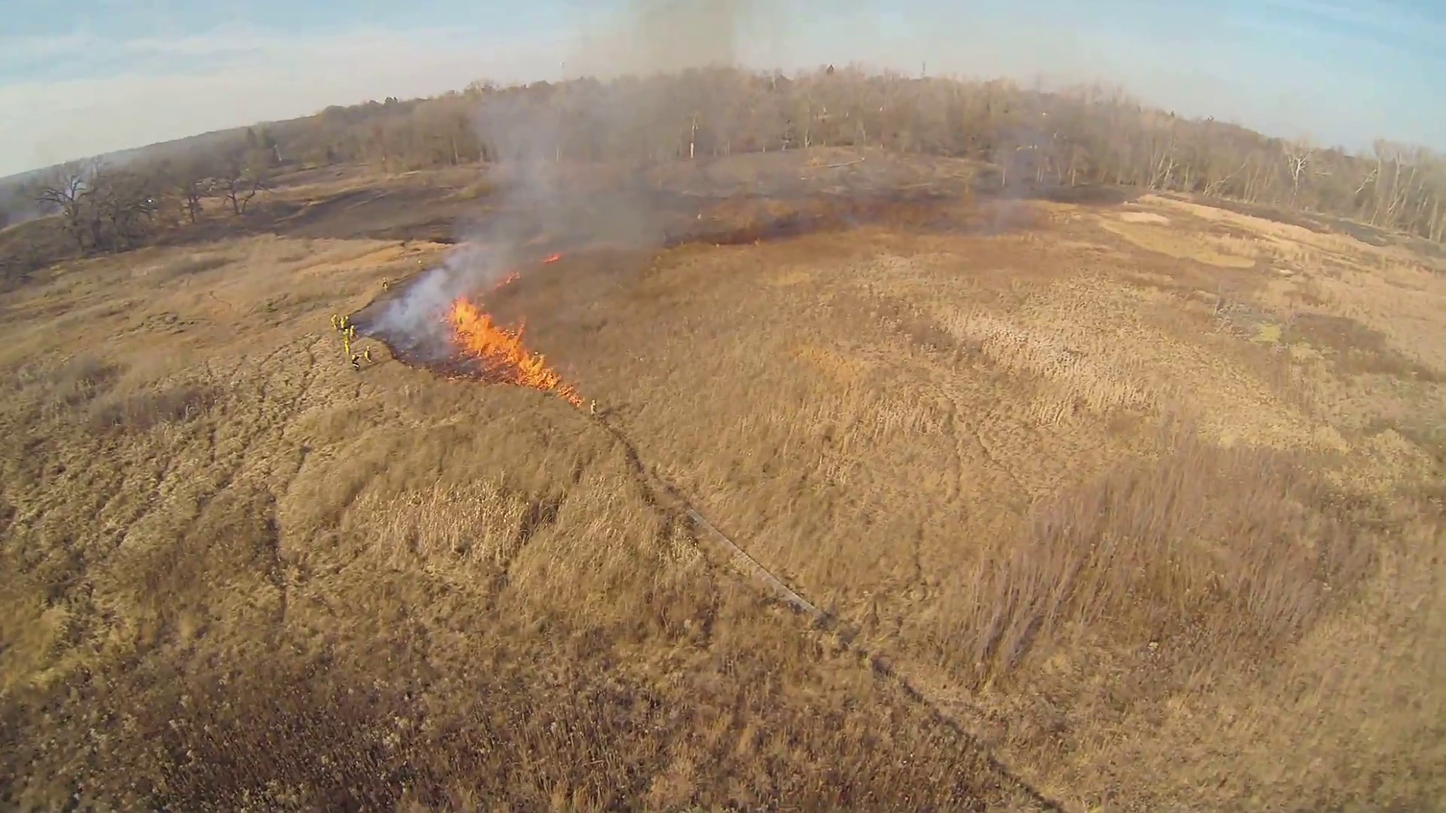forest_fire: (446, 297, 582, 405)
